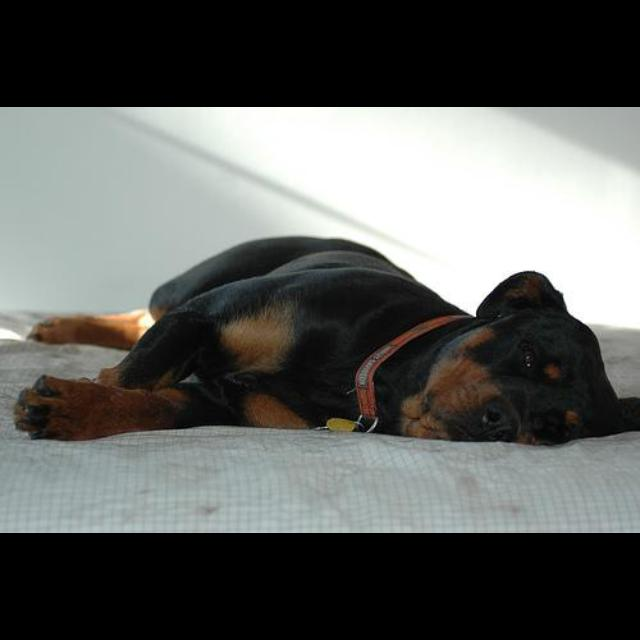rottweiler: (15, 235, 640, 446)
